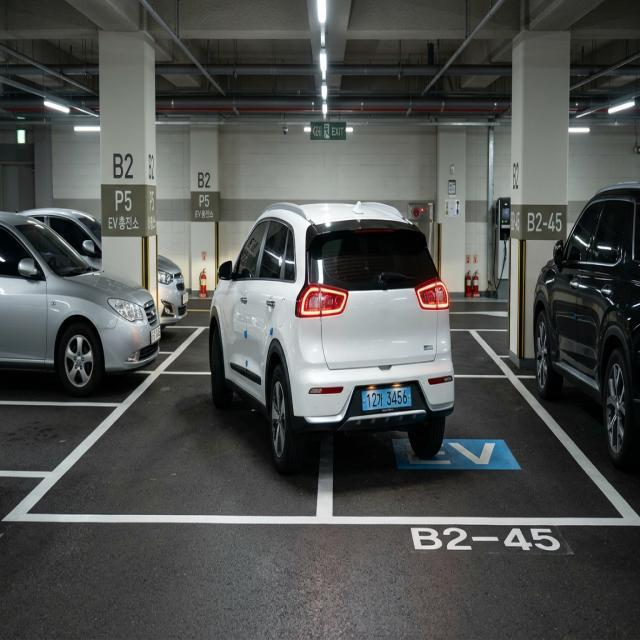car: (354, 373, 417, 421)
carev: (406, 387, 413, 410), (363, 391, 369, 415)
